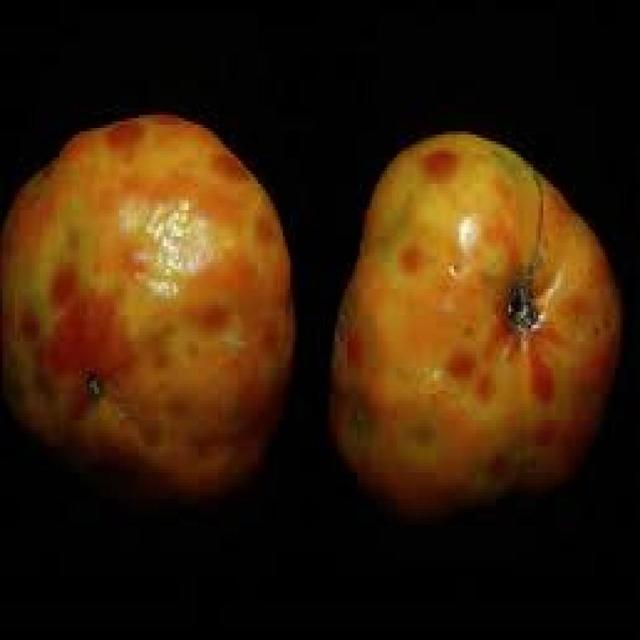Spotted wilt Virus Fruit: (98, 203, 318, 260)
